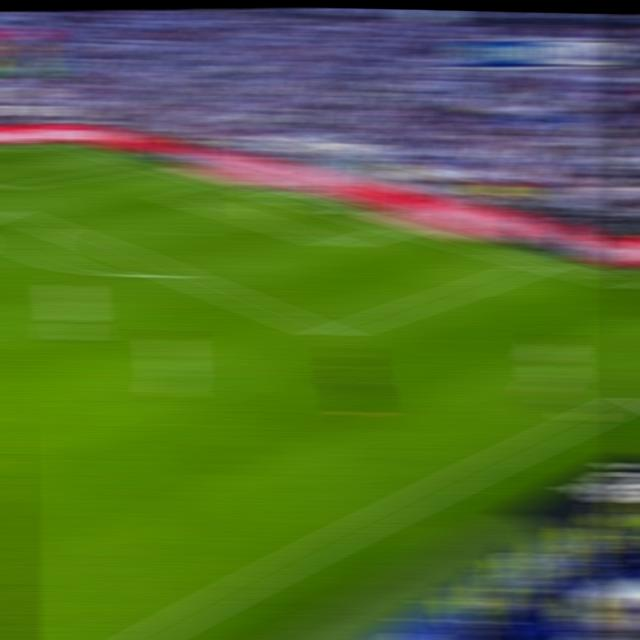bigarea_bottom_inner: (315, 322, 346, 345)
bigarea_bottom_outter: (32, 218, 61, 234)
bigarea_top_inner: (32, 218, 61, 234)
corner: (53, 138, 80, 149)
